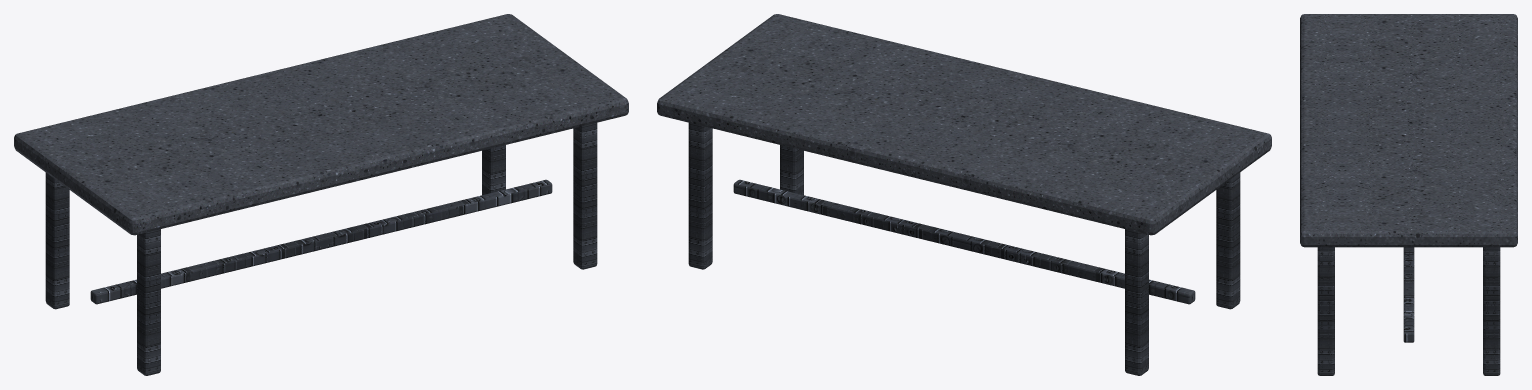
Rendered from prop_table.glb.
3 renders of one model, left to right at view 1: azimuth 30°, elevation 25°; view 2: azimuth 150°, elevation 25°; view 3: azimuth 270°, elevation 25°, orthographic. The views are drawn at different scales.
Visible parts, largest first — view 1: top, rail, leg_1_-1, leg_-1_-1, leg_-1_1, leg_1_1; view 2: top, rail, leg_1_1, leg_-1_1, leg_-1_-1, leg_1_-1; view 3: top, leg_1_1, leg_1_-1, rail.
Boxes of the visible parts, left/top/right/bottom form: top: left=14, top=14, right=628, bottom=235; rail: left=90, top=179, right=552, bottom=304; leg_1_-1: left=573, top=122, right=597, bottom=269; leg_-1_-1: left=137, top=229, right=160, bottom=375; leg_-1_1: left=45, top=172, right=69, bottom=309; leg_1_1: left=482, top=145, right=505, bottom=195; top: left=657, top=14, right=1271, bottom=235; rail: left=733, top=179, right=1195, bottom=304; leg_1_1: left=688, top=122, right=712, bottom=269; leg_-1_1: left=1125, top=229, right=1148, bottom=375; leg_-1_-1: left=1216, top=172, right=1240, bottom=309; leg_1_-1: left=780, top=145, right=803, bottom=195; top: left=1300, top=14, right=1517, bottom=247; leg_1_1: left=1483, top=247, right=1500, bottom=375; leg_1_-1: left=1317, top=247, right=1334, bottom=375; rail: left=1403, top=247, right=1414, bottom=342.
Bounding box in the file's own units: 2.4 × 0.78 × 1.
2 materials, 2 textured.
